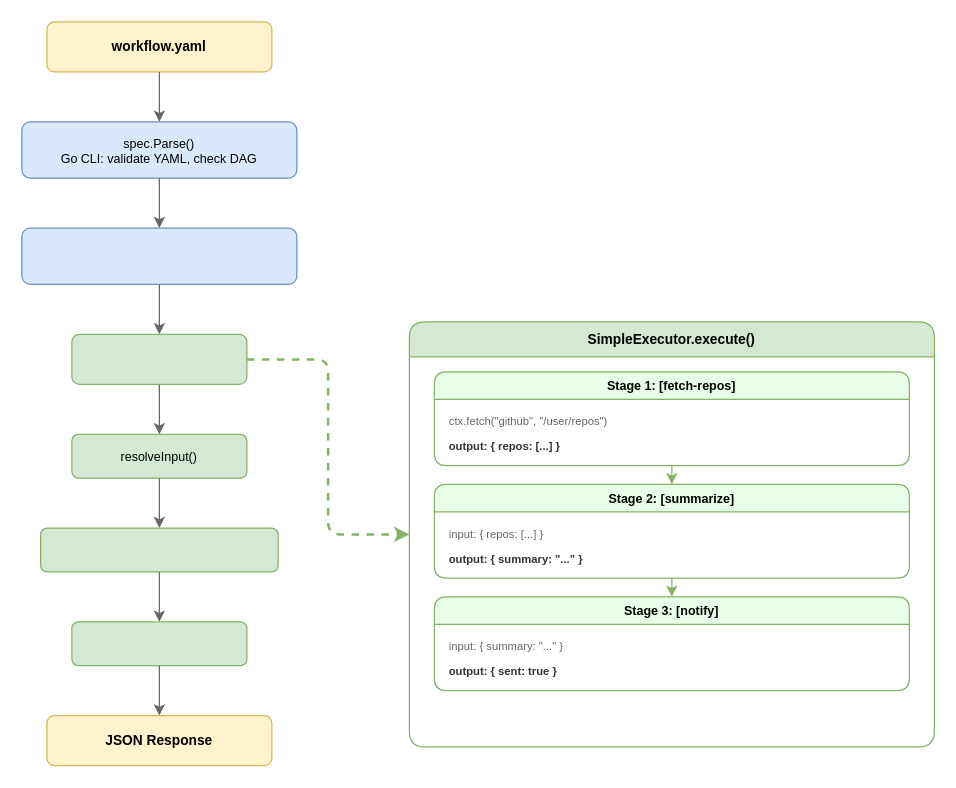
Some shapes in this 956 by 788 pixel diagram are drawn without their labels. Each missing label, with the box of its shape:
compile(spec) Deno: Kahn's algorithm, topological sort, stages: (21, 227, 297, 284)
ExecutionResult: (71, 621, 247, 666)
POST /run: (71, 333, 247, 384)
runner.run(nodeId, ctx, input): (39, 527, 278, 572)
